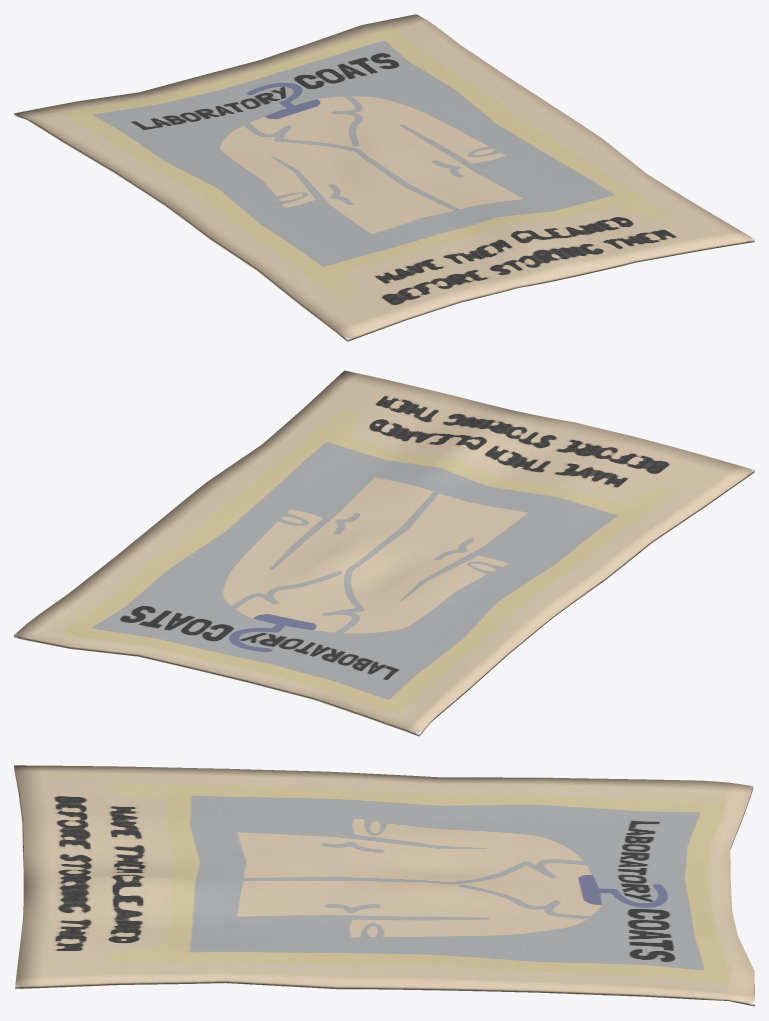
Rendered from plakat5.glb.
3 views of the same model, one above another, from view 1: azimuth 30°, elevation 25°; view 2: azimuth 150°, elevation 25°; view 3: azimuth 270°, elevation 25° (orthographic). The views are drawn at different scales.
Parts seen in each view (by area): view 1: plakat5; view 2: plakat5; view 3: plakat5.
Boxes of the visible parts, box(x1,y1,x2,y2) form: plakat5: box(14, 14, 754, 341); plakat5: box(14, 370, 754, 736); plakat5: box(14, 765, 754, 1006).
Bounding box in the file's own units: 3.75 × 0.2842 × 5.32.
Materials: 1 (1 with a texture image).
